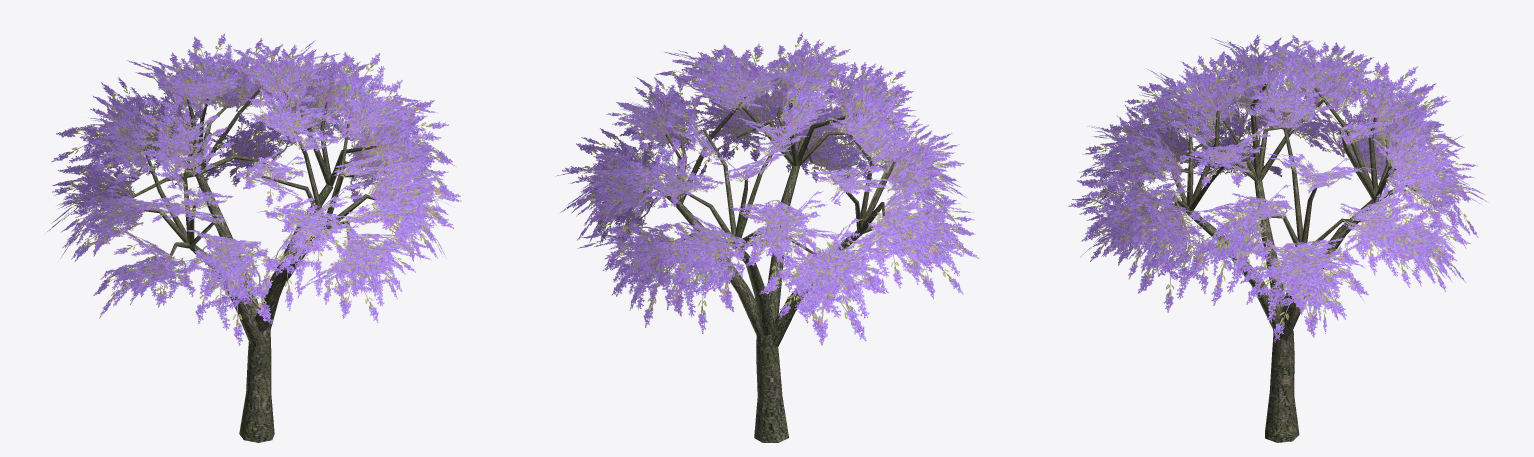
File: jacaranda.obj
The picture shows the model from 3 angles, left to right: view 1: azimuth 30°, elevation 25°; view 2: azimuth 150°, elevation 25°; view 3: azimuth 270°, elevation 25°; orthographic projection.
Visible parts, largest first — view 1: jacaranda; view 2: jacaranda; view 3: jacaranda.
Boxes of the visible parts, <box> form: jacaranda: <box>47,33,461,442</box>; jacaranda: <box>555,32,979,442</box>; jacaranda: <box>1068,34,1488,442</box>.
Size of the model in its own units: 10.28 by 8.94 by 10.12.
